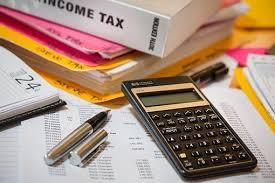Calculator: (119, 69, 267, 183)
